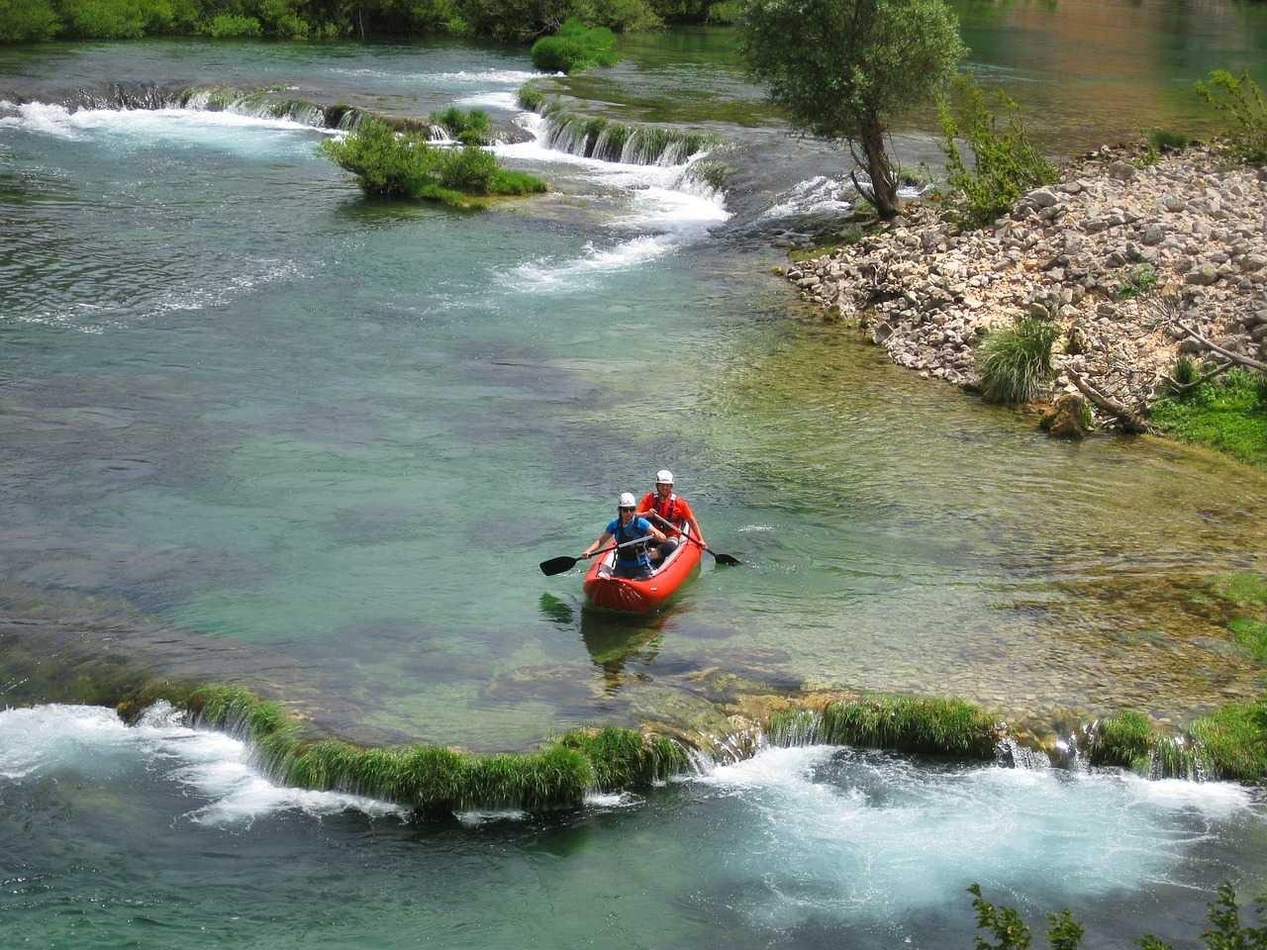kayak: (582, 536, 705, 616)
